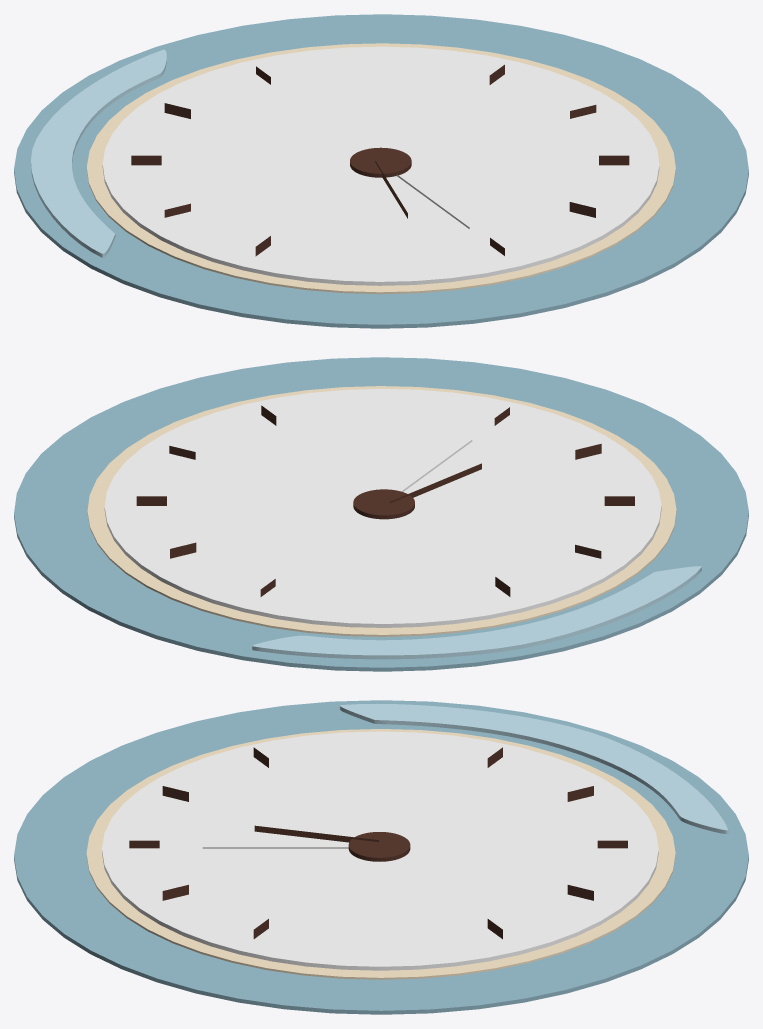
Rendered from emoji_u1f561.glb.
3 renders of one model, top to bottom at view 1: azimuth 30°, elevation 25°; view 2: azimuth 150°, elevation 25°; view 3: azimuth 270°, elevation 25°, orthographic.
Visible parts, largest first — view 1: emoji_u1f561; view 2: emoji_u1f561; view 3: emoji_u1f561.
Boxes of the visible parts, bbox=[...] form: emoji_u1f561: bbox=[14, 14, 748, 328]; emoji_u1f561: bbox=[14, 357, 748, 671]; emoji_u1f561: bbox=[14, 700, 748, 1014].
Bounding box in the file's own units: 0.0339 × 0.0018 × 0.0339.
